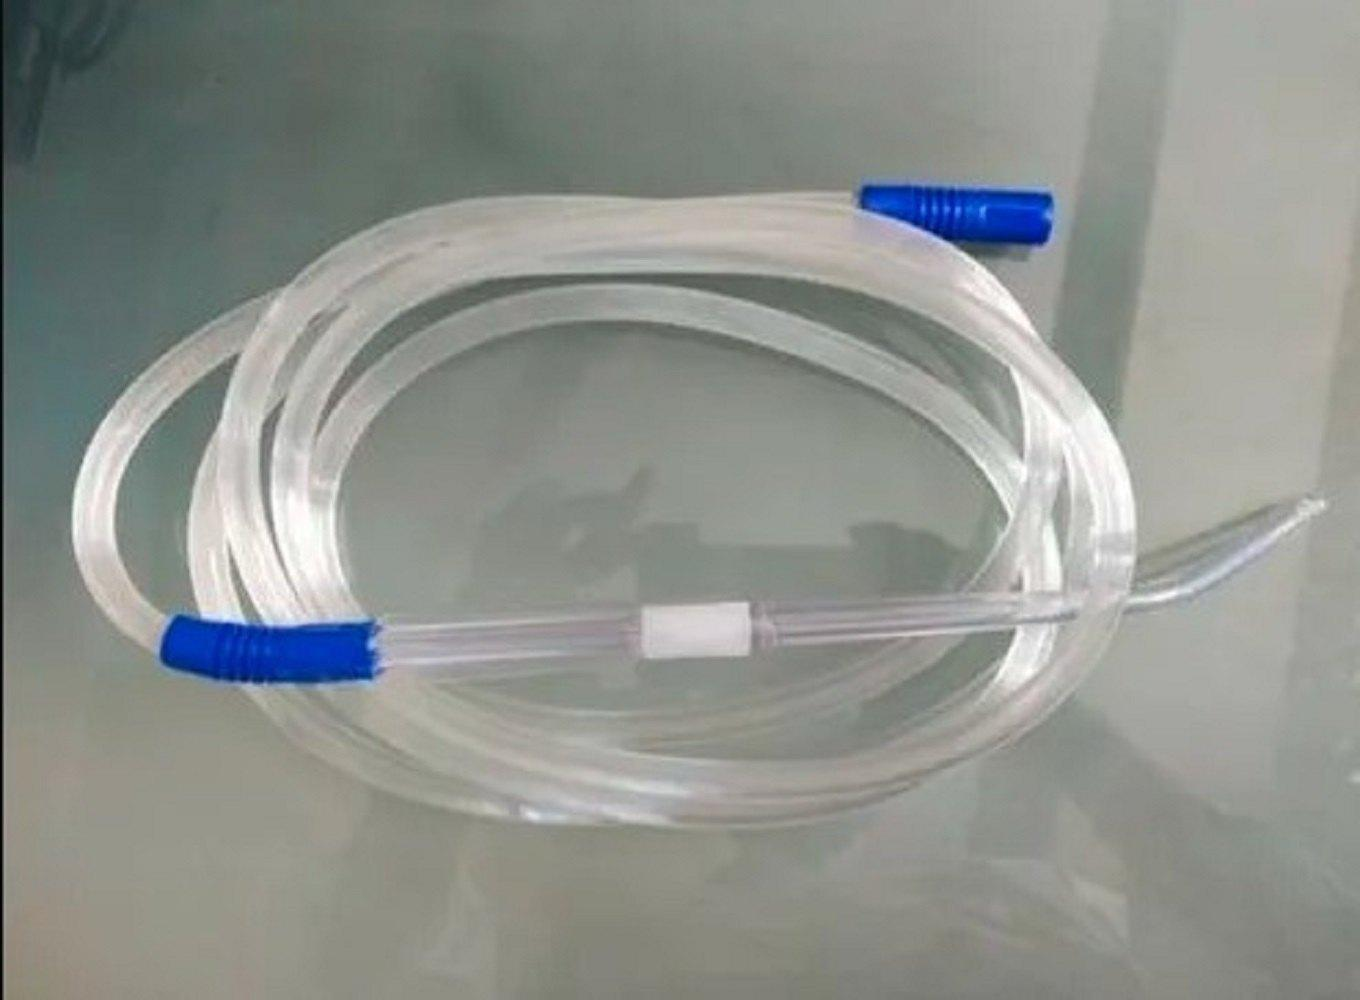Suction Tube Nozzle: (76, 164, 1330, 833)
